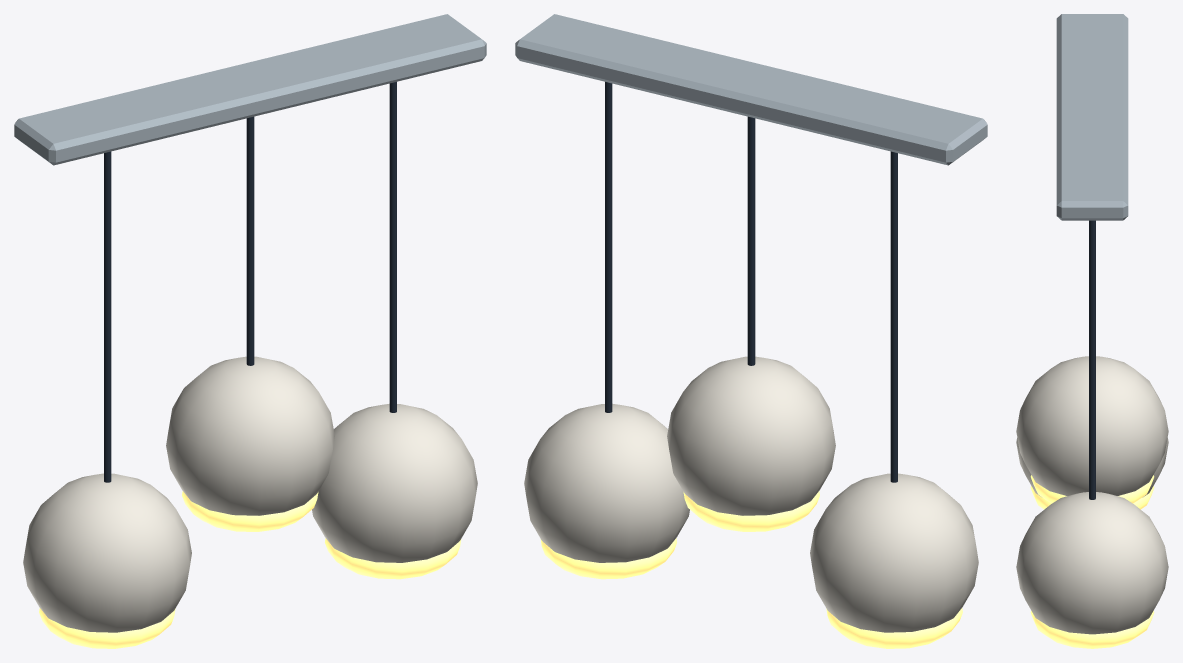
Rendered from public_07.glb.
The picture shows the model from 3 angles, left to right: view 1: azimuth 30°, elevation 25°; view 2: azimuth 150°, elevation 25°; view 3: azimuth 270°, elevation 25°; orthographic projection. The views are drawn at different scales.
Visible parts, largest first — view 1: PendantGlobe (×3), PendantMount, LightCord (×3), PendantGlow (×3); view 2: PendantGlobe (×3), PendantMount, LightCord (×3), PendantGlow (×3); view 3: PendantGlobe (×3), PendantMount, PendantGlow (×3), LightCord.
Boxes of the visible parts, left/top/right/bottom form: PendantGlobe (×3): left=23, top=356, right=477, bottom=632; PendantMount: left=14, top=14, right=486, bottom=165; LightCord (×3): left=104, top=82, right=396, bottom=482; PendantGlow (×3): left=39, top=491, right=461, bottom=648; PendantGlobe (×3): left=524, top=356, right=978, bottom=632; PendantMount: left=515, top=14, right=987, bottom=165; LightCord (×3): left=605, top=82, right=897, bottom=482; PendantGlow (×3): left=540, top=491, right=962, bottom=648; PendantGlobe (×3): left=1016, top=356, right=1168, bottom=634; PendantMount: left=1056, top=14, right=1128, bottom=220; PendantGlow (×3): left=1030, top=475, right=1154, bottom=648; LightCord: left=1089, top=220, right=1095, bottom=499.
Size of the model in its own units: 0.95 by 1.09 by 0.32.
